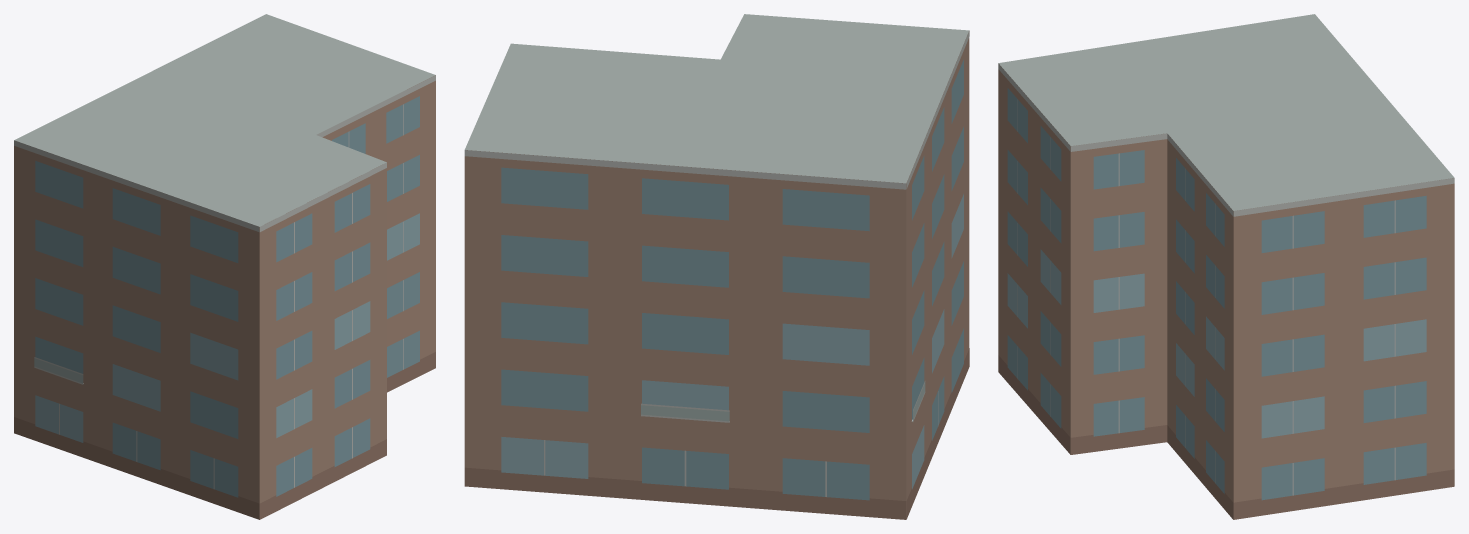
File: survey-upis-32847403.glb
3 renders of one model, left to right at view 1: azimuth 30°, elevation 25°; view 2: azimuth 150°, elevation 25°; view 3: azimuth 270°, elevation 25°, orthographic. The views are drawn at different scales.
Parts seen in each view (by area): view 1: survey-upis-32847403.tmp; view 2: survey-upis-32847403.tmp; view 3: survey-upis-32847403.tmp.
Part boxes in pixels (box(x1,y1,x2,y2)): survey-upis-32847403.tmp: box(14, 14, 435, 519); survey-upis-32847403.tmp: box(464, 14, 969, 519); survey-upis-32847403.tmp: box(998, 14, 1454, 519).
Bounding box in the file's own units: 17.8 × 13 × 17.42.
